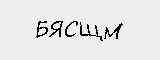Б: (33, 18, 49, 39)
М: (103, 22, 122, 41)
С: (63, 16, 78, 39)
Щ: (77, 22, 102, 41)
Я: (48, 19, 63, 40)
